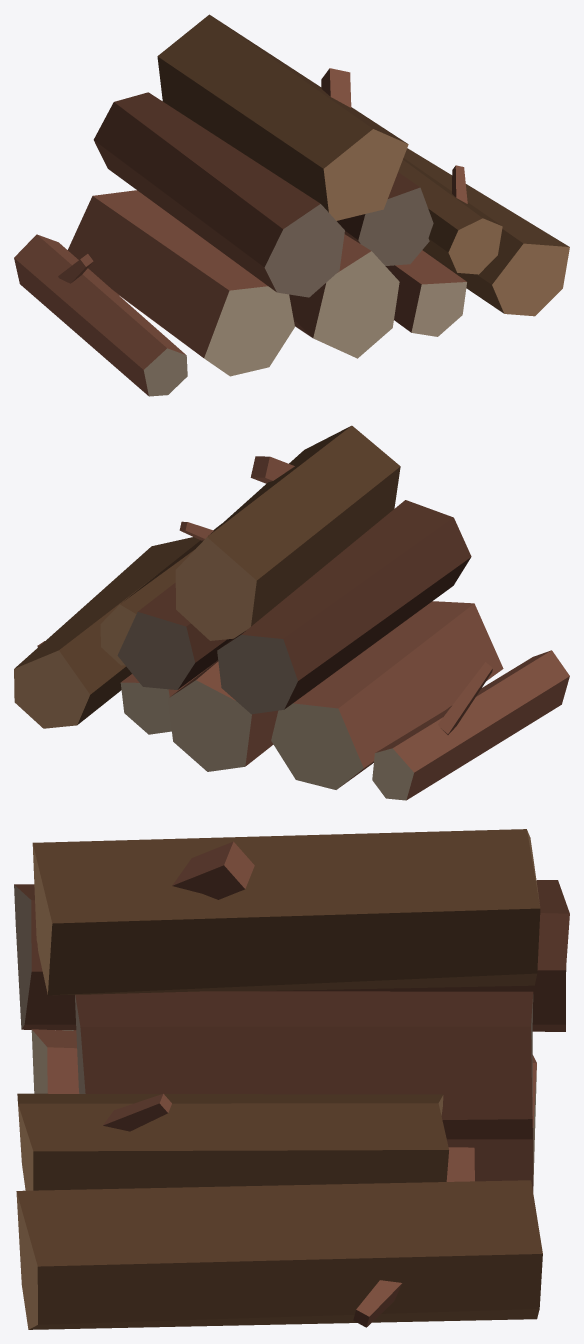
Rendered from Logs 3.glb.
The picture shows the model from 3 angles, top to bottom: view 1: azimuth 30°, elevation 25°; view 2: azimuth 150°, elevation 25°; view 3: azimuth 270°, elevation 25°; orthographic projection. The views are drawn at different scales.
Parts seen in each view (by area): view 1: Logs 3; view 2: Logs 3; view 3: Logs 3.
Part boxes in pixels (bbox=[...]): Logs 3: bbox=[14, 14, 569, 396]; Logs 3: bbox=[14, 425, 569, 800]; Logs 3: bbox=[14, 829, 569, 1329].
Size of what is drawn, in the model's own units: 1.17 by 0.6175 by 0.8141.
1 material, 1 textured.
